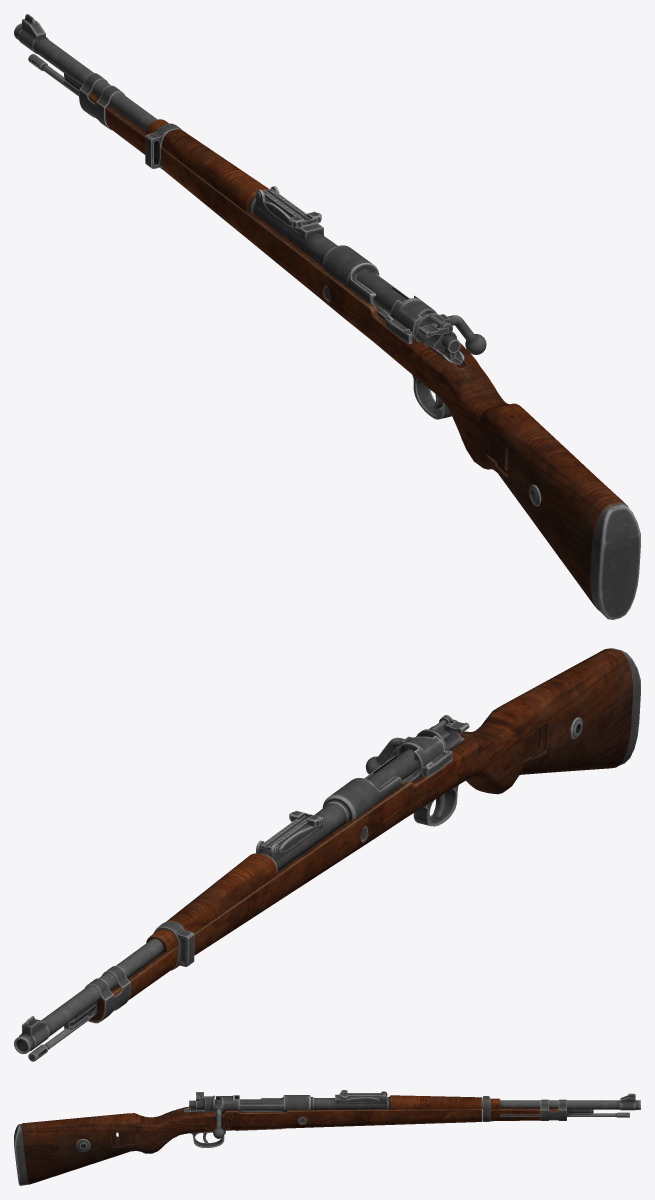
File: kar98k.glb
The picture shows the model from 3 angles, top to bottom: view 1: azimuth 30°, elevation 25°; view 2: azimuth 150°, elevation 25°; view 3: azimuth 270°, elevation 25°; orthographic projection. The views are drawn at different scales.
Parts seen in each view (by area): view 1: source-Object_3, source-Object_2, bolt-Object_2; view 2: source-Object_3, source-Object_2, bolt-Object_2; view 3: source-Object_3, source-Object_2, bolt-Object_2.
Boxes of the visible parts, x1=… form: source-Object_3: x1=14, y1=14, x2=640, y2=619; source-Object_2: x1=64, y1=73, x2=541, y2=506; bolt-Object_2: x1=356, y1=270, x2=486, y2=359; source-Object_3: x1=14, y1=648, x2=640, y2=1061; source-Object_2: x1=64, y1=717, x2=582, y2=1030; bolt-Object_2: x1=364, y1=715, x2=469, y2=788; source-Object_3: x1=14, y1=1091, x2=640, y2=1185; source-Object_2: x1=76, y1=1090, x2=593, y2=1151; bolt-Object_2: x1=189, y1=1092, x2=283, y2=1138.
Size of the model in its own units: 0.0871 by 0.1787 by 1.11.
Materials: 2 (2 with a texture image).
